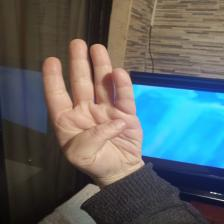four: (39, 36, 147, 174)
